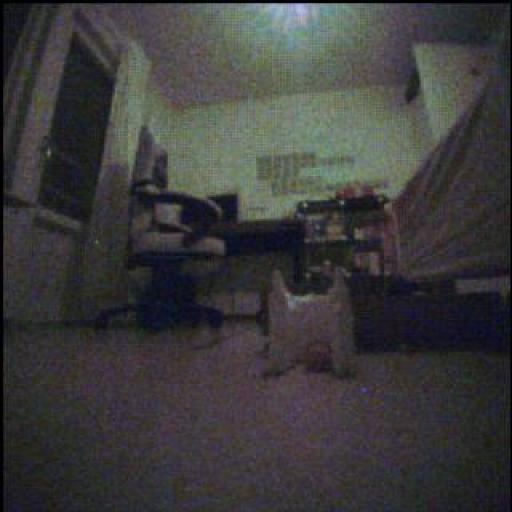basket: (303, 336, 336, 375)
